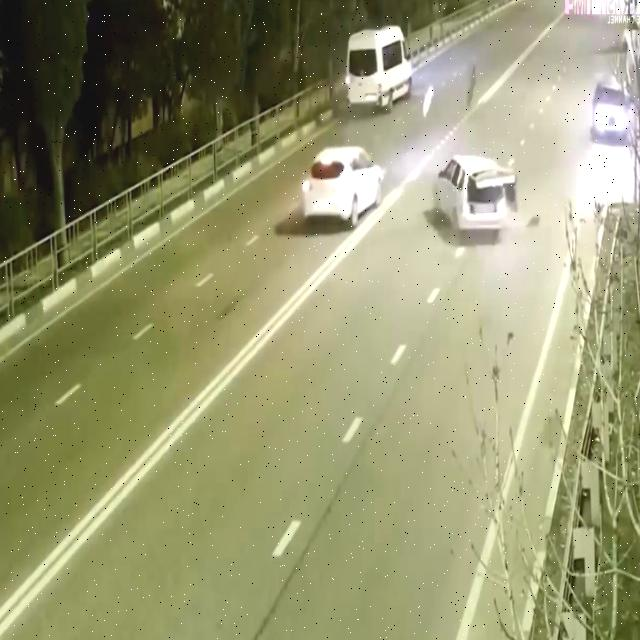accident: (423, 123, 525, 266)
